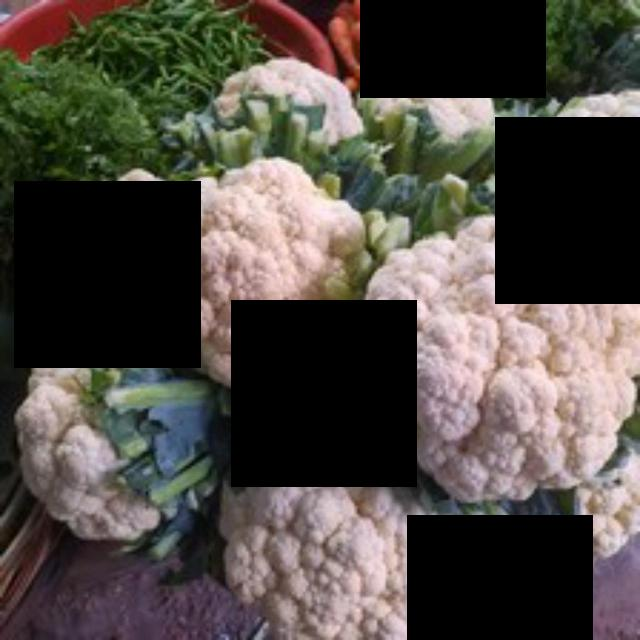cauliflower: (357, 203, 637, 514), (150, 163, 365, 374)
